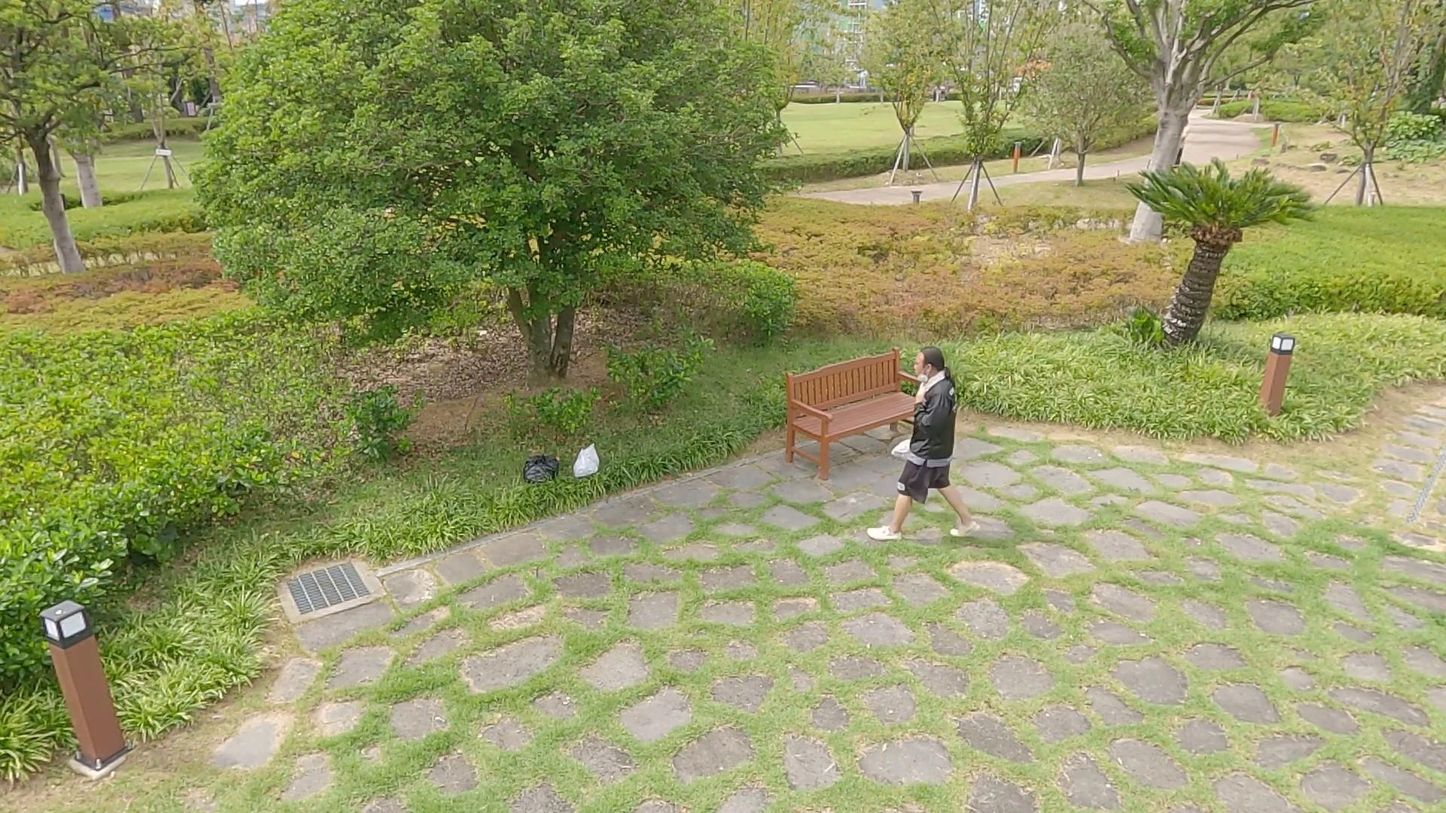person: (871, 345, 981, 547)
trash: (569, 438, 604, 481), (517, 452, 561, 485), (884, 426, 920, 464)
